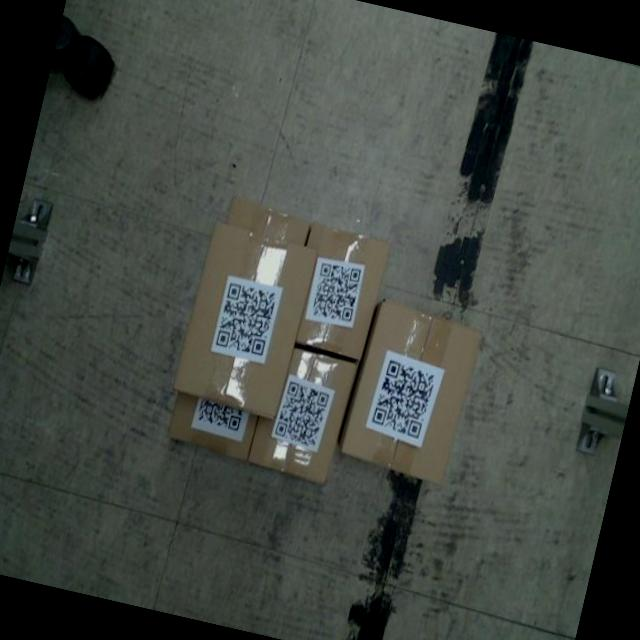box: (167, 217, 321, 424), (333, 287, 488, 488)
